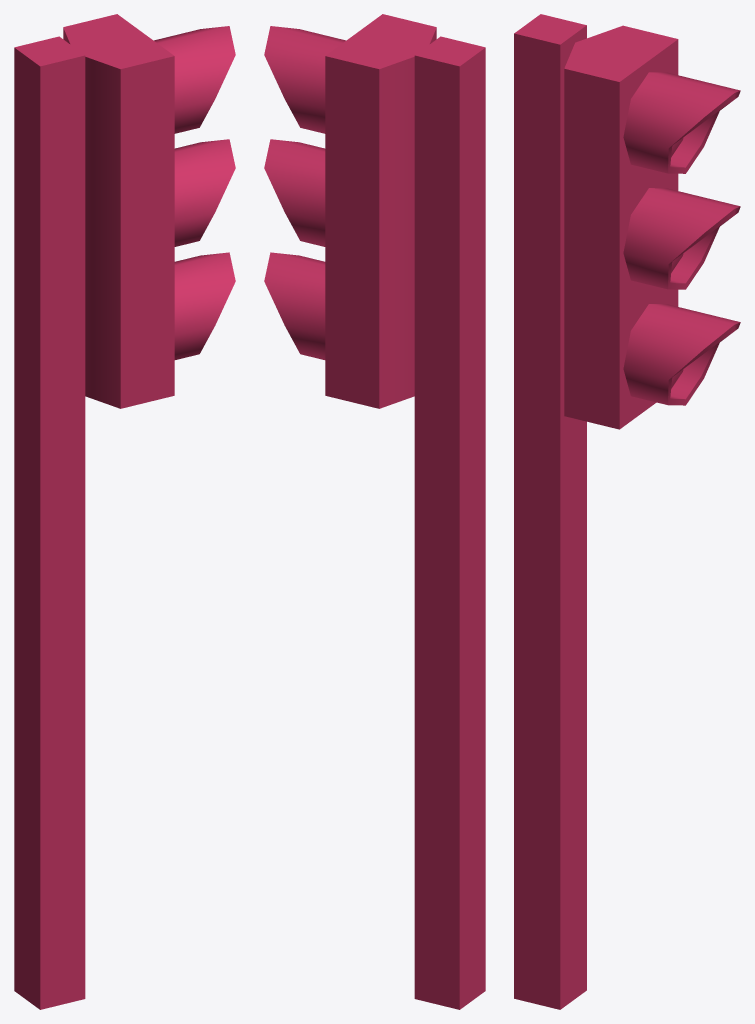
The model's file is Traffic light unwrap.fbx.
3 views of the same model, side by side, from view 1: azimuth 30°, elevation 25°; view 2: azimuth 150°, elevation 25°; view 3: azimuth 330°, elevation 25° (orthographic). The views are drawn at different scales.
Parts seen in each view (by area): view 1: Traffic Lights; view 2: Traffic Lights; view 3: Traffic Lights.
Boxes of the visible parts, left/top/right/bottom form: Traffic Lights: left=14, top=14, right=235, bottom=1009; Traffic Lights: left=264, top=14, right=485, bottom=1009; Traffic Lights: left=514, top=14, right=740, bottom=1009.
Size of the model in its own units: 89.78 by 400 by 44.16.
